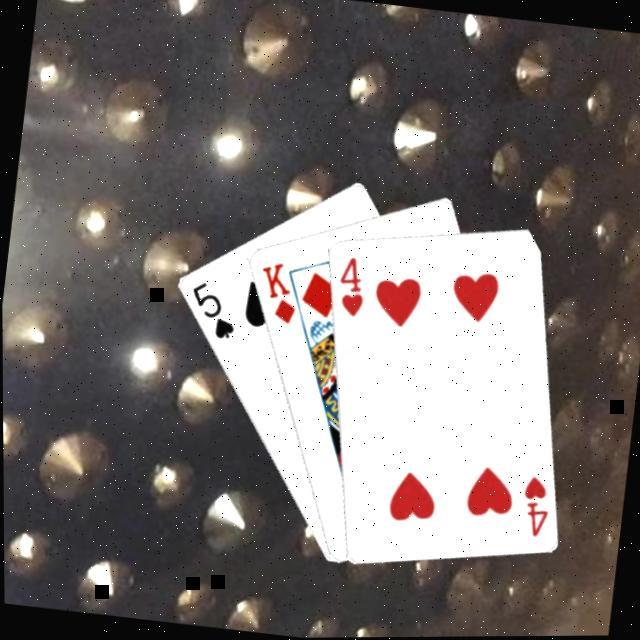4H: (515, 470, 555, 540), (332, 251, 372, 318)
5S: (184, 276, 243, 342)
KD: (252, 254, 304, 326)
